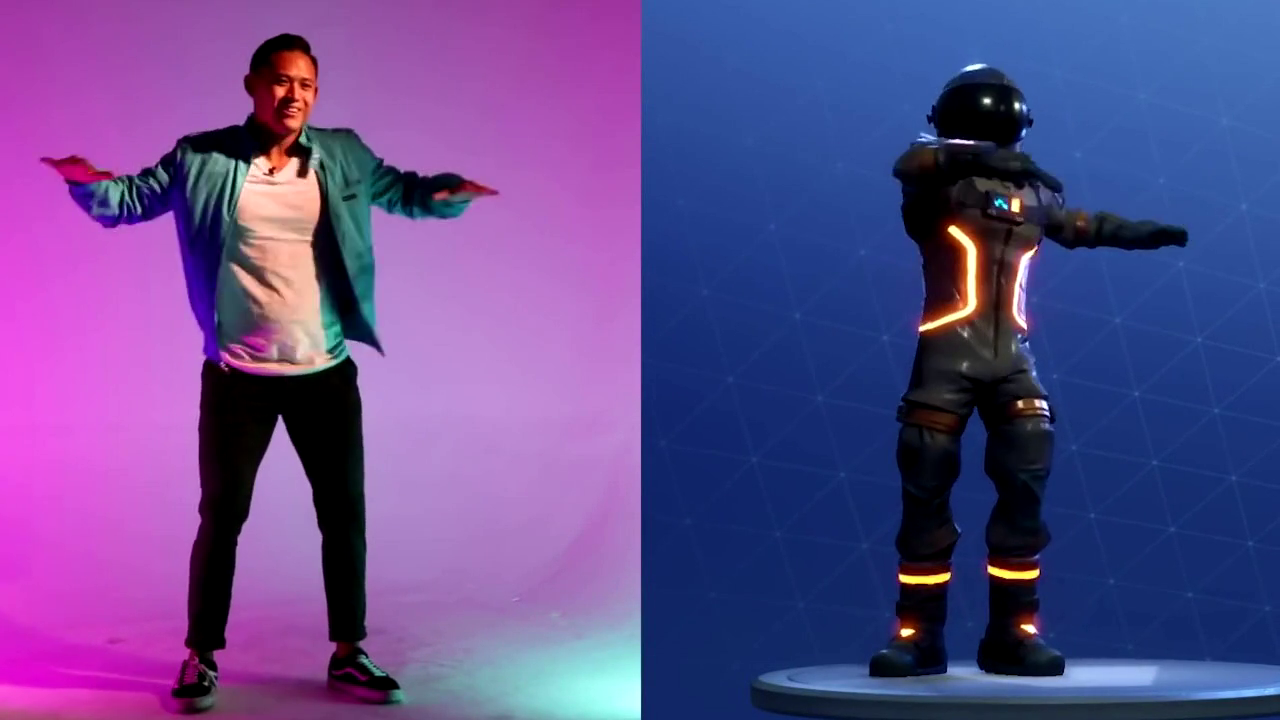Head: (239, 18, 337, 140)
Hip: (185, 332, 405, 440)
LeftAnkle: (296, 608, 418, 709)
LeftElbow: (372, 154, 421, 219)
LeftKnee: (289, 451, 394, 547)
LeftShoulder: (313, 113, 372, 181)
LeftWrist: (408, 161, 509, 215)
RightAnkle: (150, 612, 243, 714)
RightElbow: (108, 162, 170, 241)
RightKnee: (180, 470, 262, 553)
RightShoulder: (159, 117, 244, 194)
RightWrist: (31, 129, 118, 205)
Torso: (177, 133, 367, 362)
